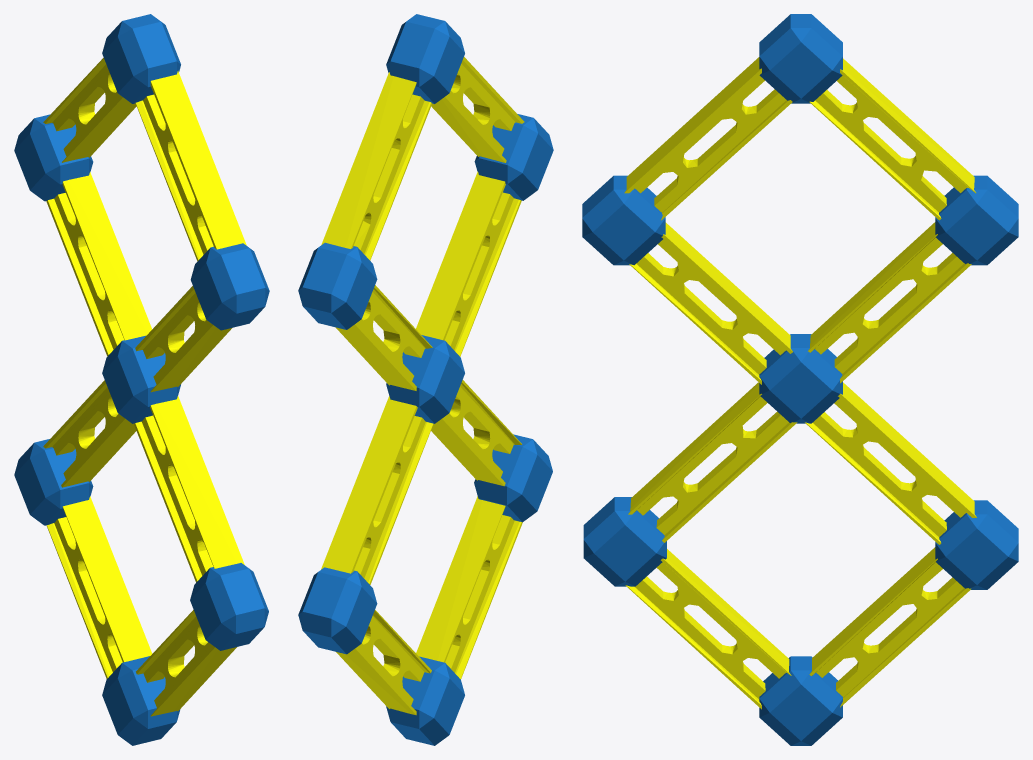
The model's file is RomboidStructureX2.fbx.
3 views of the same model, side by side, from view 1: azimuth 30°, elevation 25°; view 2: azimuth 150°, elevation 25°; view 3: azimuth 270°, elevation 25° (orthographic).
Visible parts, largest first — view 1: Beam; view 2: Beam; view 3: Beam.
Boxes of the visible parts, bbox=[...] form: Beam: bbox=[14, 14, 269, 745]; Beam: bbox=[298, 14, 553, 745]; Beam: bbox=[582, 14, 1018, 745].
Size of what is drawn, in the model's own units: 150 by 2148 by 1184.
